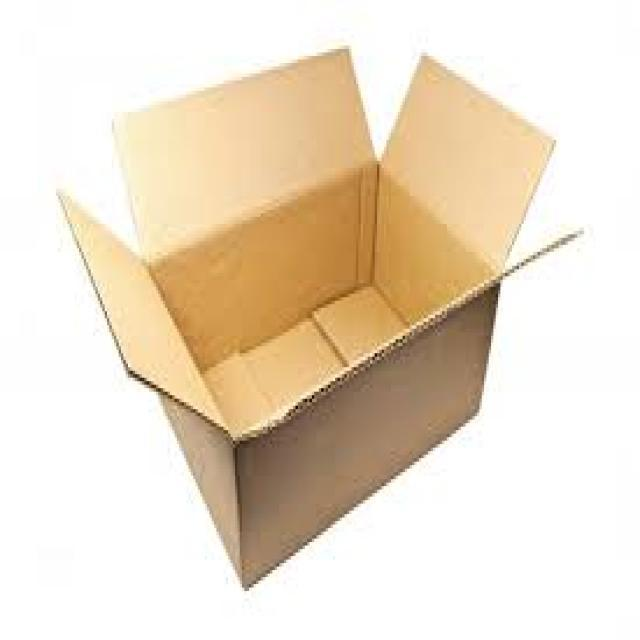Cardboard: (55, 36, 583, 588)
